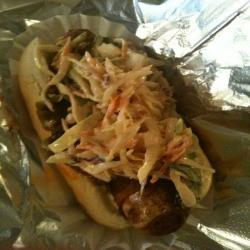burger: (15, 42, 211, 219)
